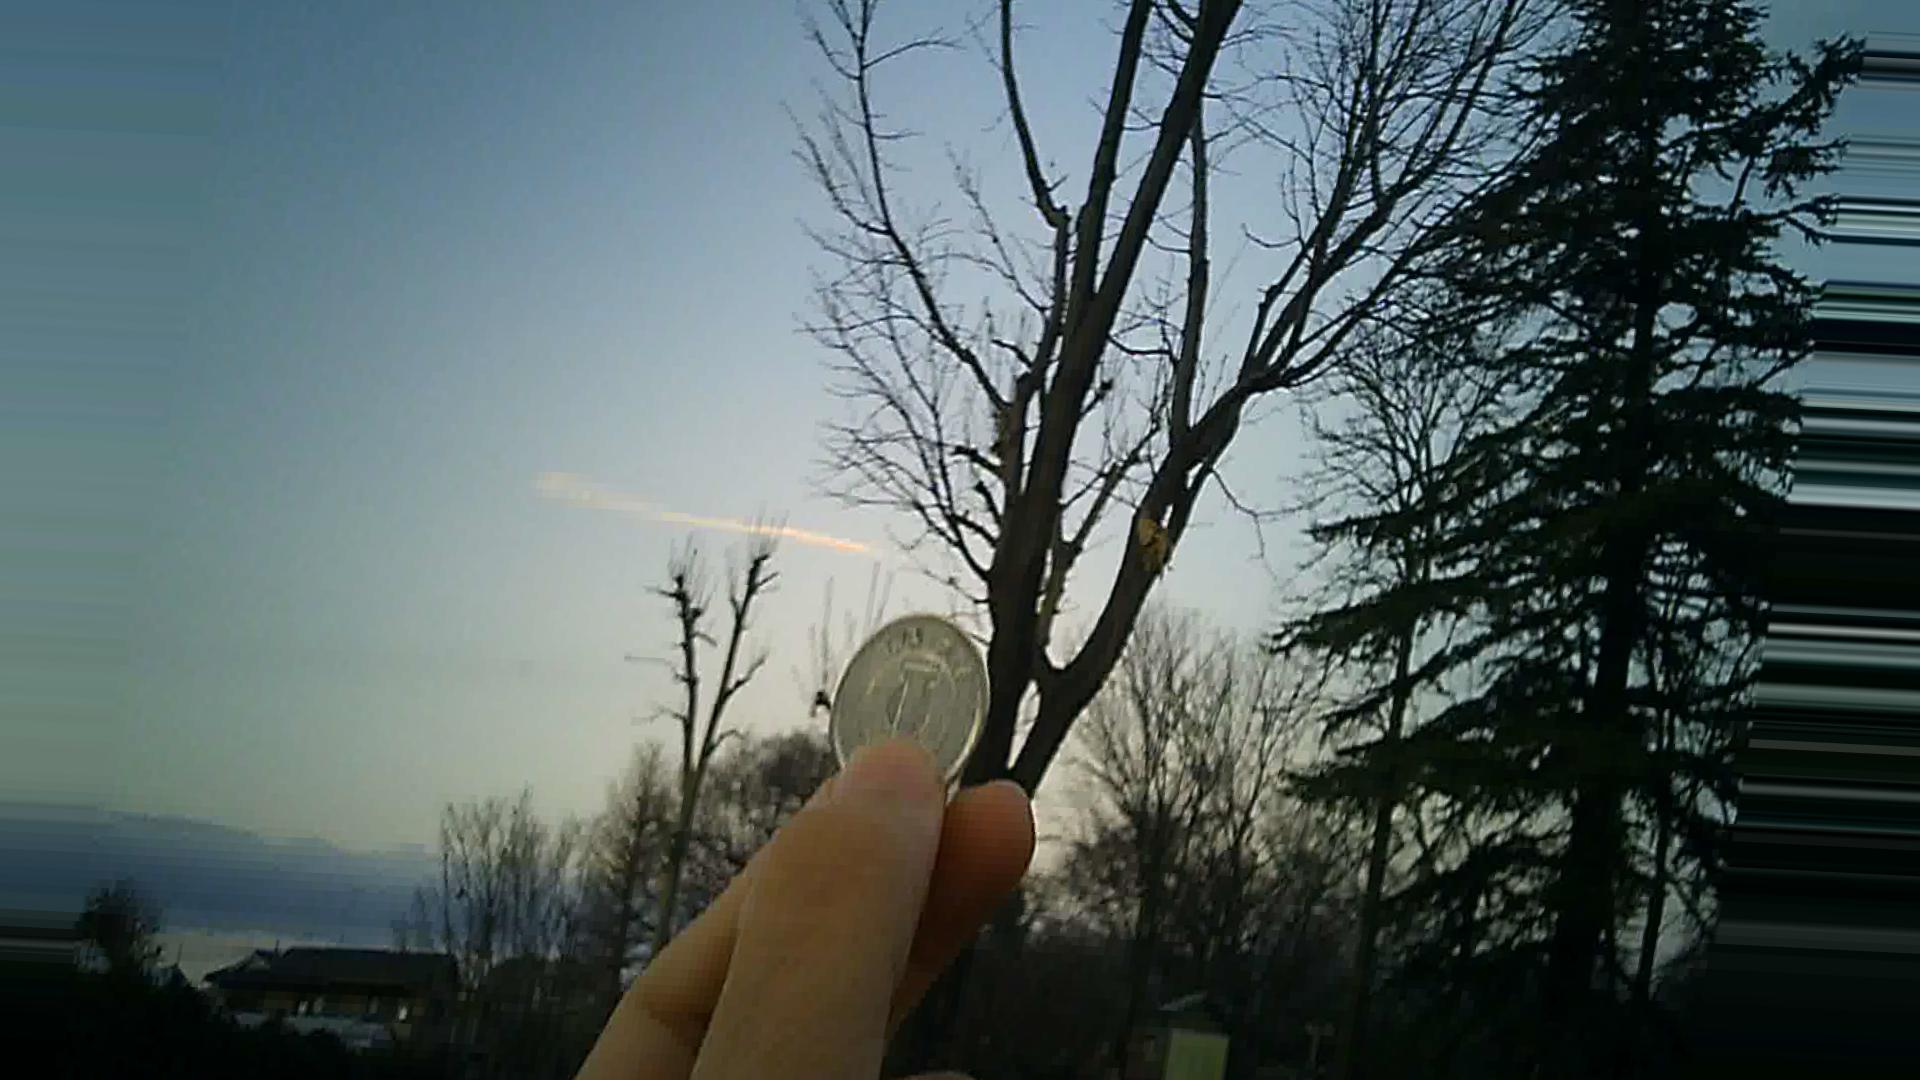1 Yen: (823, 601, 984, 791)
